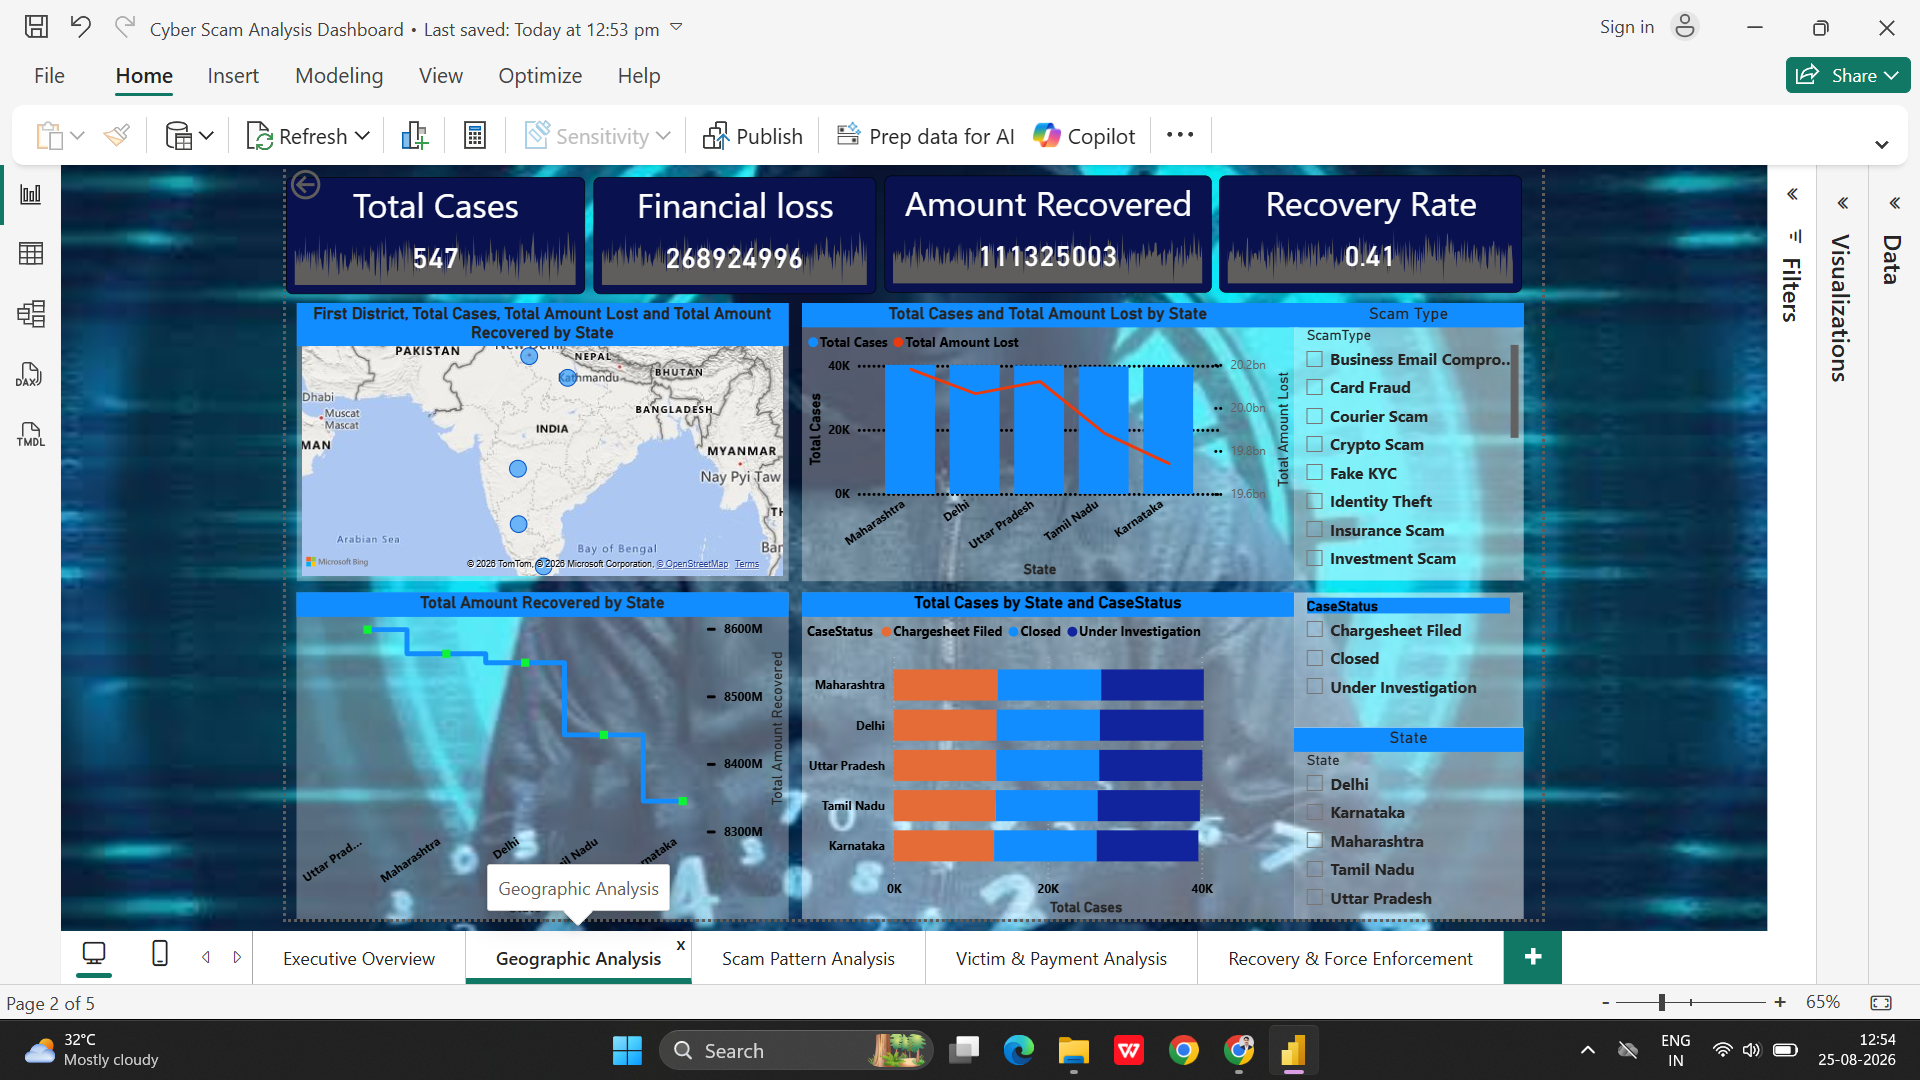

What the dashboard file says about the page in this screenshot:
{"tool":"powerbi","page":{"name":"Geographic Analysis","canvas":[1280,768],"ordinal":1},"visuals":[{"type":"kpi","title":"Total Cases","fields":{"Indicator":["Sheet.Total Cases"],"TrendLine":["Sheet.Date"]},"box":[0,11.6,304.4,119.6],"z":0},{"type":"kpi","title":"Financial loss","fields":{"Indicator":["Sheet.Total Amount Lost"],"TrendLine":["Sheet.Date"]},"box":[312.9,12.1,287.7,119.6],"z":1000},{"type":"kpi","title":"Amount Recovered","fields":{"Indicator":["Sheet.Total Amount Recovered"],"TrendLine":["Sheet.Date"]},"box":[609.2,10.6,333.1,119.6],"z":2000},{"type":"kpi","title":"Recovery Rate","fields":{"Indicator":["Sheet.Recovery rate %"],"TrendLine":["Sheet.Date"]},"box":[950.9,11.1,308.9,119.6],"z":3000},{"type":"map","fields":{"Size":["Sheet.Total Cases"],"Category":["Sheet.State"],"X":["Min(Sheet.District)"]},"box":[10.6,140.8,501.2,283.2],"z":4000},{"type":"lineClusteredColumnComboChart","fields":{"Category":["Sheet.State"],"Y":["Sheet.Total Cases"],"Y2":["Sheet.Total Amount Lost"]},"box":[525.4,140.8,501.2,283.2],"z":5000},{"type":"lineChart","fields":{"Category":["Sheet.State"],"Y2":["Sheet.Total Amount Recovered"]},"box":[10.7,435.4,501.1,333.1],"z":6000},{"type":"barChart","fields":{"Category":["Sheet.State"],"Series":["Sheet.CaseStatus"],"Y":["Sheet.Total Cases"]},"box":[525.6,435.4,501.1,333.1],"z":7000},{"type":"slicer","title":"State ","fields":{"Values":["Sheet.State"]},"box":[1026.7,573,233.8,195.6],"z":8000},{"type":"slicer","title":"State ","fields":{"Values":["Sheet.CaseStatus"]},"box":[1026.6,436.1,233.2,137.8],"z":9000},{"type":"slicer","title":"Scam Type","fields":{"Values":["Sheet.ScamType"]},"box":[1026.7,140.6,233.8,282.7],"z":10000},{"type":"actionButton","box":[0,0,100,40],"z":11000}]}

Visuals, with their boxes on the page's 1280x768 design canvas (x1, y1, x2, y2). These are canvas units, not pixel positions in the 1920x1080 screenshot, which may show the page scaled, cropped or inside an application window:
"Total Cases" kpi: [x1=0, y1=12, x2=304, y2=131]
"Financial loss" kpi: [x1=313, y1=12, x2=601, y2=132]
"Amount Recovered" kpi: [x1=609, y1=11, x2=942, y2=130]
"Recovery Rate" kpi: [x1=951, y1=11, x2=1260, y2=131]
map - Sheet.Total Cases x Sheet.State: [x1=11, y1=141, x2=512, y2=424]
lineClusteredColumnComboChart - Sheet.State x Sheet.Total Cases: [x1=525, y1=141, x2=1027, y2=424]
lineChart - Sheet.State x Sheet.Total Amount Recovered: [x1=11, y1=435, x2=512, y2=768]
barChart - Sheet.State x Sheet.CaseStatus: [x1=526, y1=435, x2=1027, y2=768]
"State " slicer: [x1=1027, y1=573, x2=1260, y2=769]
"State " slicer: [x1=1027, y1=436, x2=1260, y2=574]
"Scam Type" slicer: [x1=1027, y1=141, x2=1260, y2=423]
actionButton: [x1=0, y1=0, x2=100, y2=40]
